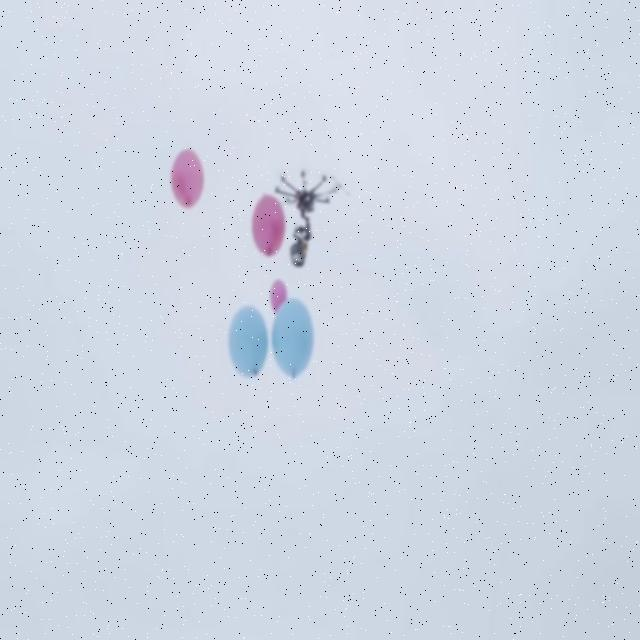UAV: (276, 170, 350, 218)
